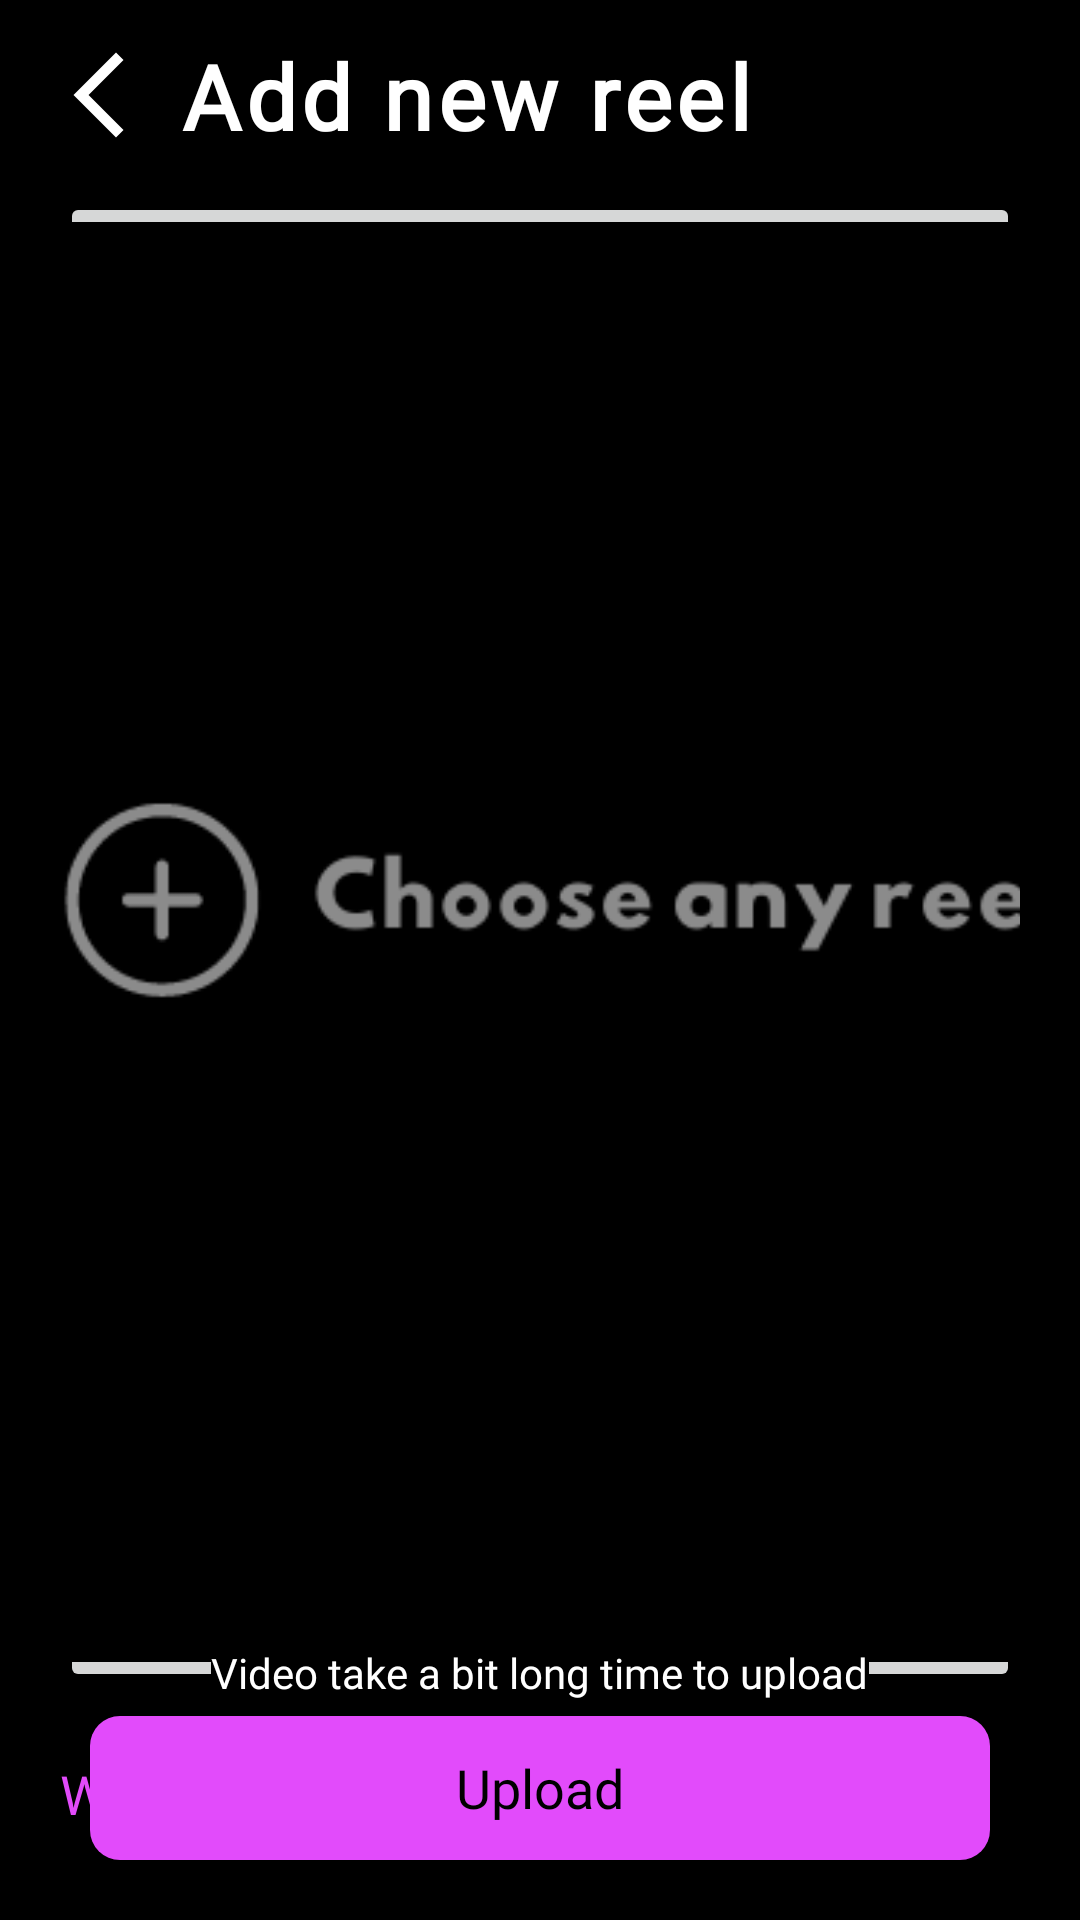

Icons on this 1080×1920 Android screen, each with the point to tap as (x=x, y=y):
back: (x=98, y=95)
